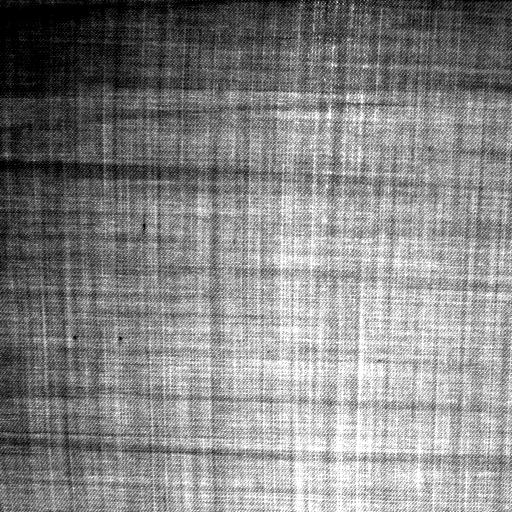fabric_thick_weft: (67, 331, 129, 345)
